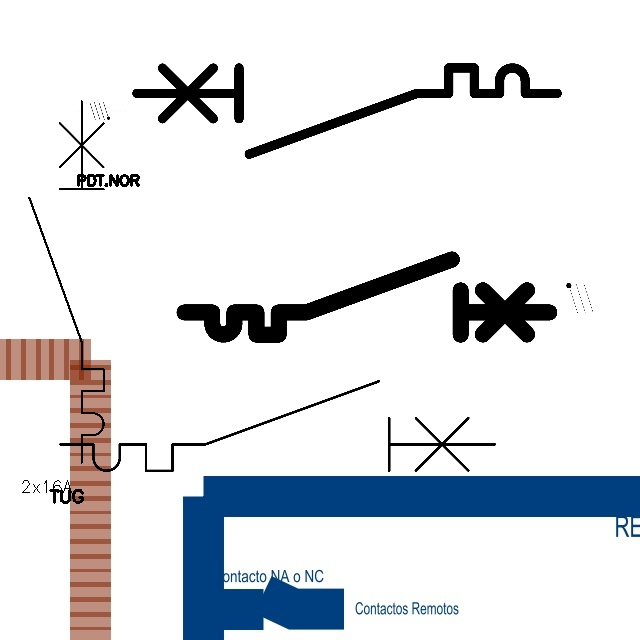interruptor_termomagnetico: (49, 370, 506, 482), (125, 57, 567, 165), (175, 250, 558, 344), (20, 92, 113, 472)
